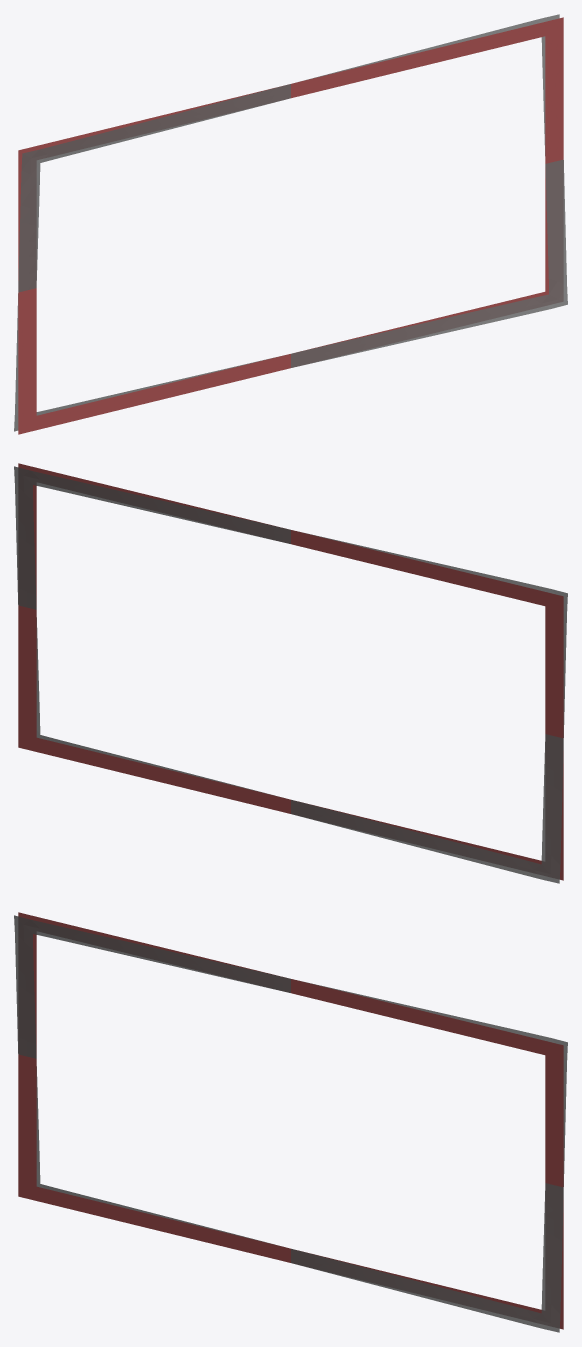
Rendered from warping-box-118-237-6-8-369.glb.
3 views of the same model, one above another, from view 1: azimuth 30°, elevation 25°; view 2: azimuth 150°, elevation 25°; view 3: azimuth 330°, elevation 25° (orthographic).
Parts seen in each view (by area): view 1: undeformed cross-section, cross-section with warping; view 2: undeformed cross-section, cross-section with warping; view 3: undeformed cross-section, cross-section with warping.
Part boxes in pixels (x1,y1,x2,y2): undeformed cross-section: [18, 17, 563, 434]; cross-section with warping: [14, 14, 567, 431]; undeformed cross-section: [18, 463, 563, 880]; cross-section with warping: [14, 466, 567, 883]; undeformed cross-section: [18, 912, 563, 1329]; cross-section with warping: [14, 915, 567, 1332].
Size of the model in its own units: 0.237 by 0.118 by 0.00668.
